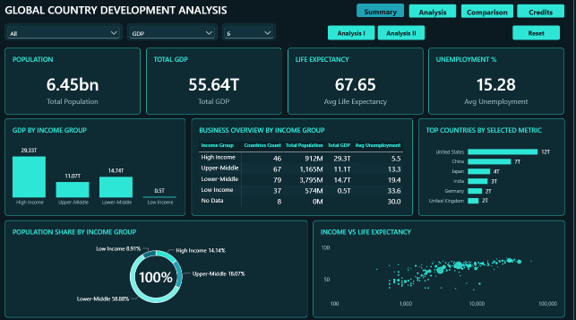

The dashboard page shown, as its layout file describes it:
{"tool":"powerbi","page":{"name":"Summary","canvas":[1280,720],"ordinal":0},"visuals":[{"type":"textbox","box":[20,8,510.8,39.9],"z":0},{"type":"actionButton","box":[800,10,105,30],"z":1000},{"type":"actionButton","box":[1030,10.9,116.2,30.3],"z":2000},{"type":"actionButton","box":[915,10.9,105,30],"z":3000},{"type":"actionButton","box":[1154.5,10.9,105,30],"z":4000},{"type":"slicer","fields":{"Values":["Countries.Income Group"]},"box":[20,55,260,36],"z":5000},{"type":"card","title":"POPULATION","fields":{"Values":["_Measures.Total Population"]},"box":[20,107.5,300,147.5],"z":6000},{"type":"card","title":"TOTAL GDP","fields":{"Values":["_Measures.Total GDP"]},"box":[332.5,107.5,300,147.5],"z":7000},{"type":"card","title":"LIFE EXPECTANCY","fields":{"Values":["_Measures.Avg Life Expectancy"]},"box":[646.2,107.5,300,147.5],"z":8000},{"type":"card","title":"UNEMPLOYMENT %","fields":{"Values":["_Measures.Avg Unemployment"]},"box":[958.8,107.5,300,147.5],"z":9000},{"type":"slicer","fields":{"Values":["Top N.Top N"]},"box":[500,55,120,36],"z":10000},{"type":"clusteredColumnChart","title":"GDP BY INCOME GROUP","fields":{"Category":["Countries.Income Group"],"Y":["_Measures.Total GDP"]},"box":[20,265,400,215],"z":11000},{"type":"pivotTable","title":"BUSINESS OVERVIEW BY INCOME GROUP","fields":{"Rows":["Countries.Income Group"],"Values":["_Measures.Countries Count","_Measures.Total Population","_Measures.Total GDP","_Measures.Avg Unemployment"]},"box":[433,265,490,215],"z":12000},{"type":"slicer","fields":{"Values":["Metric Choice.Metric"]},"box":[290,55,200,36],"z":13000},{"type":"clusteredBarChart","title":"TOP COUNTRIES BY SELECTED METRIC","fields":{"Category":["Countries.Country"],"Y":["_Measures.Selected Metric Value"]},"box":[936.2,265,323.8,215],"z":14000},{"type":"donutChart","title":"POPULATION SHARE BY INCOME GROUP","fields":{"Category":["Countries.Income Group"],"Y":["_Measures.Population Share %"]},"box":[20,490,670,215],"z":15000},{"type":"tableEx","title":"TOP 5 COUNTRIES BY GDP GROWTH","fields":{"Values":["Countries.Country","_Measures.Growth Arrow"]},"box":[703,490,557,215],"z":16000},{"type":"actionButton","box":[1145,58,105,32],"z":18000},{"type":"actionButton","box":[735,58,105,32],"z":18001},{"type":"actionButton","box":[845,58,105,32],"z":18002}]}

Visuals, with their boxes in screenshot pixels (x1, y1, x2, y2), scaled from the page's 1280x720 canvas onto the 576x320 screenshot:
textbox: x1=9 y1=4 x2=239 y2=21
actionButton: x1=360 y1=4 x2=407 y2=18
actionButton: x1=464 y1=5 x2=516 y2=18
actionButton: x1=412 y1=5 x2=459 y2=18
actionButton: x1=520 y1=5 x2=567 y2=18
slicer - Countries.Income Group: x1=9 y1=24 x2=126 y2=40
"POPULATION" card: x1=9 y1=48 x2=144 y2=113
"TOTAL GDP" card: x1=150 y1=48 x2=285 y2=113
"LIFE EXPECTANCY" card: x1=291 y1=48 x2=426 y2=113
"UNEMPLOYMENT %" card: x1=431 y1=48 x2=566 y2=113
slicer - Top N.Top N: x1=225 y1=24 x2=279 y2=40
"GDP BY INCOME GROUP" clusteredColumnChart: x1=9 y1=118 x2=189 y2=213
"BUSINESS OVERVIEW BY INCOME GROUP" pivotTable: x1=195 y1=118 x2=415 y2=213
slicer - Metric Choice.Metric: x1=130 y1=24 x2=220 y2=40
"TOP COUNTRIES BY SELECTED METRIC" clusteredBarChart: x1=421 y1=118 x2=567 y2=213
"POPULATION SHARE BY INCOME GROUP" donutChart: x1=9 y1=218 x2=310 y2=313
"TOP 5 COUNTRIES BY GDP GROWTH" tableEx: x1=316 y1=218 x2=567 y2=313
actionButton: x1=515 y1=26 x2=562 y2=40
actionButton: x1=331 y1=26 x2=378 y2=40
actionButton: x1=380 y1=26 x2=428 y2=40
